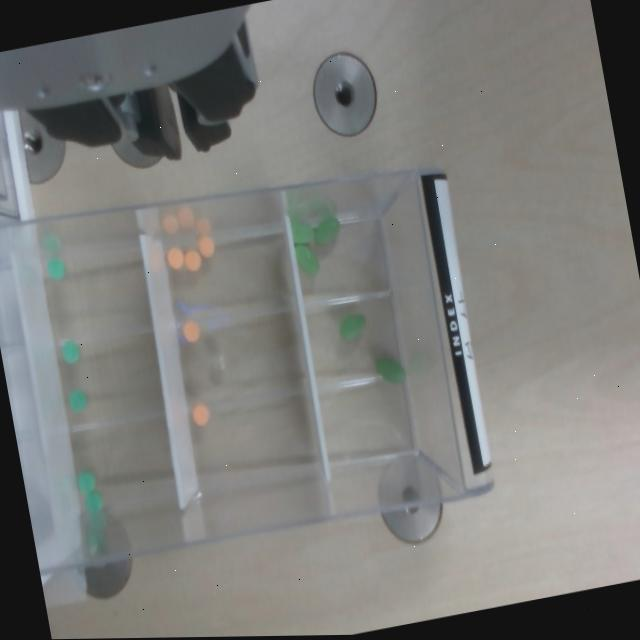famodine: (75, 471, 96, 498), (67, 389, 88, 416), (60, 340, 81, 366), (46, 258, 65, 282)
otillen_tab: (293, 241, 320, 279), (375, 356, 407, 388), (313, 217, 343, 250), (337, 314, 367, 341), (376, 356, 405, 383), (314, 216, 340, 246), (289, 219, 316, 247), (295, 244, 319, 275), (340, 314, 366, 340), (292, 220, 314, 244)
samsung_octylonium_tab: (181, 249, 203, 274), (195, 233, 214, 259), (181, 319, 200, 344), (191, 403, 211, 426), (166, 247, 183, 272)
